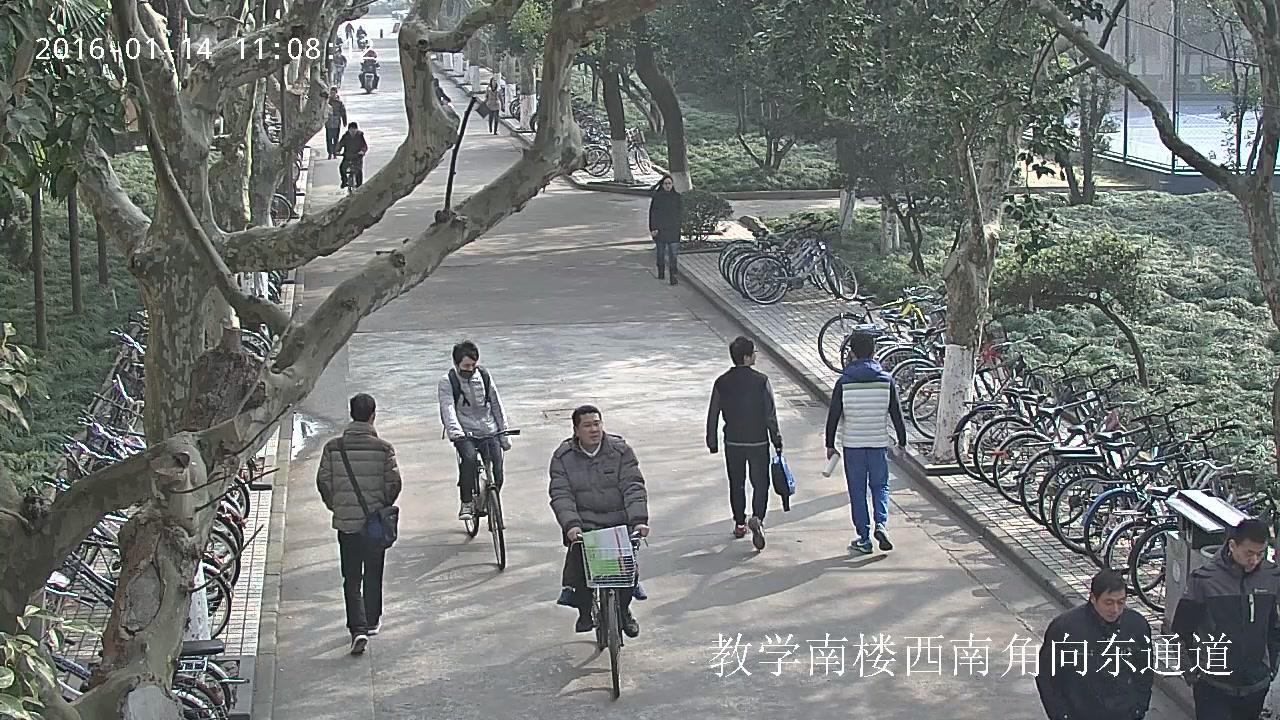person: (546, 405, 651, 698), (547, 405, 651, 638), (317, 392, 402, 652), (1172, 517, 1280, 720), (706, 334, 796, 552), (438, 337, 520, 570), (823, 331, 907, 553), (1034, 567, 1154, 720), (438, 337, 513, 521), (648, 175, 684, 285), (334, 121, 368, 197), (335, 121, 368, 189), (322, 86, 347, 161), (476, 76, 505, 136), (357, 50, 381, 94), (358, 50, 381, 90), (430, 77, 451, 110), (430, 77, 450, 110), (330, 49, 346, 89), (331, 49, 346, 80), (355, 24, 369, 48), (344, 22, 355, 49), (355, 25, 367, 41)
